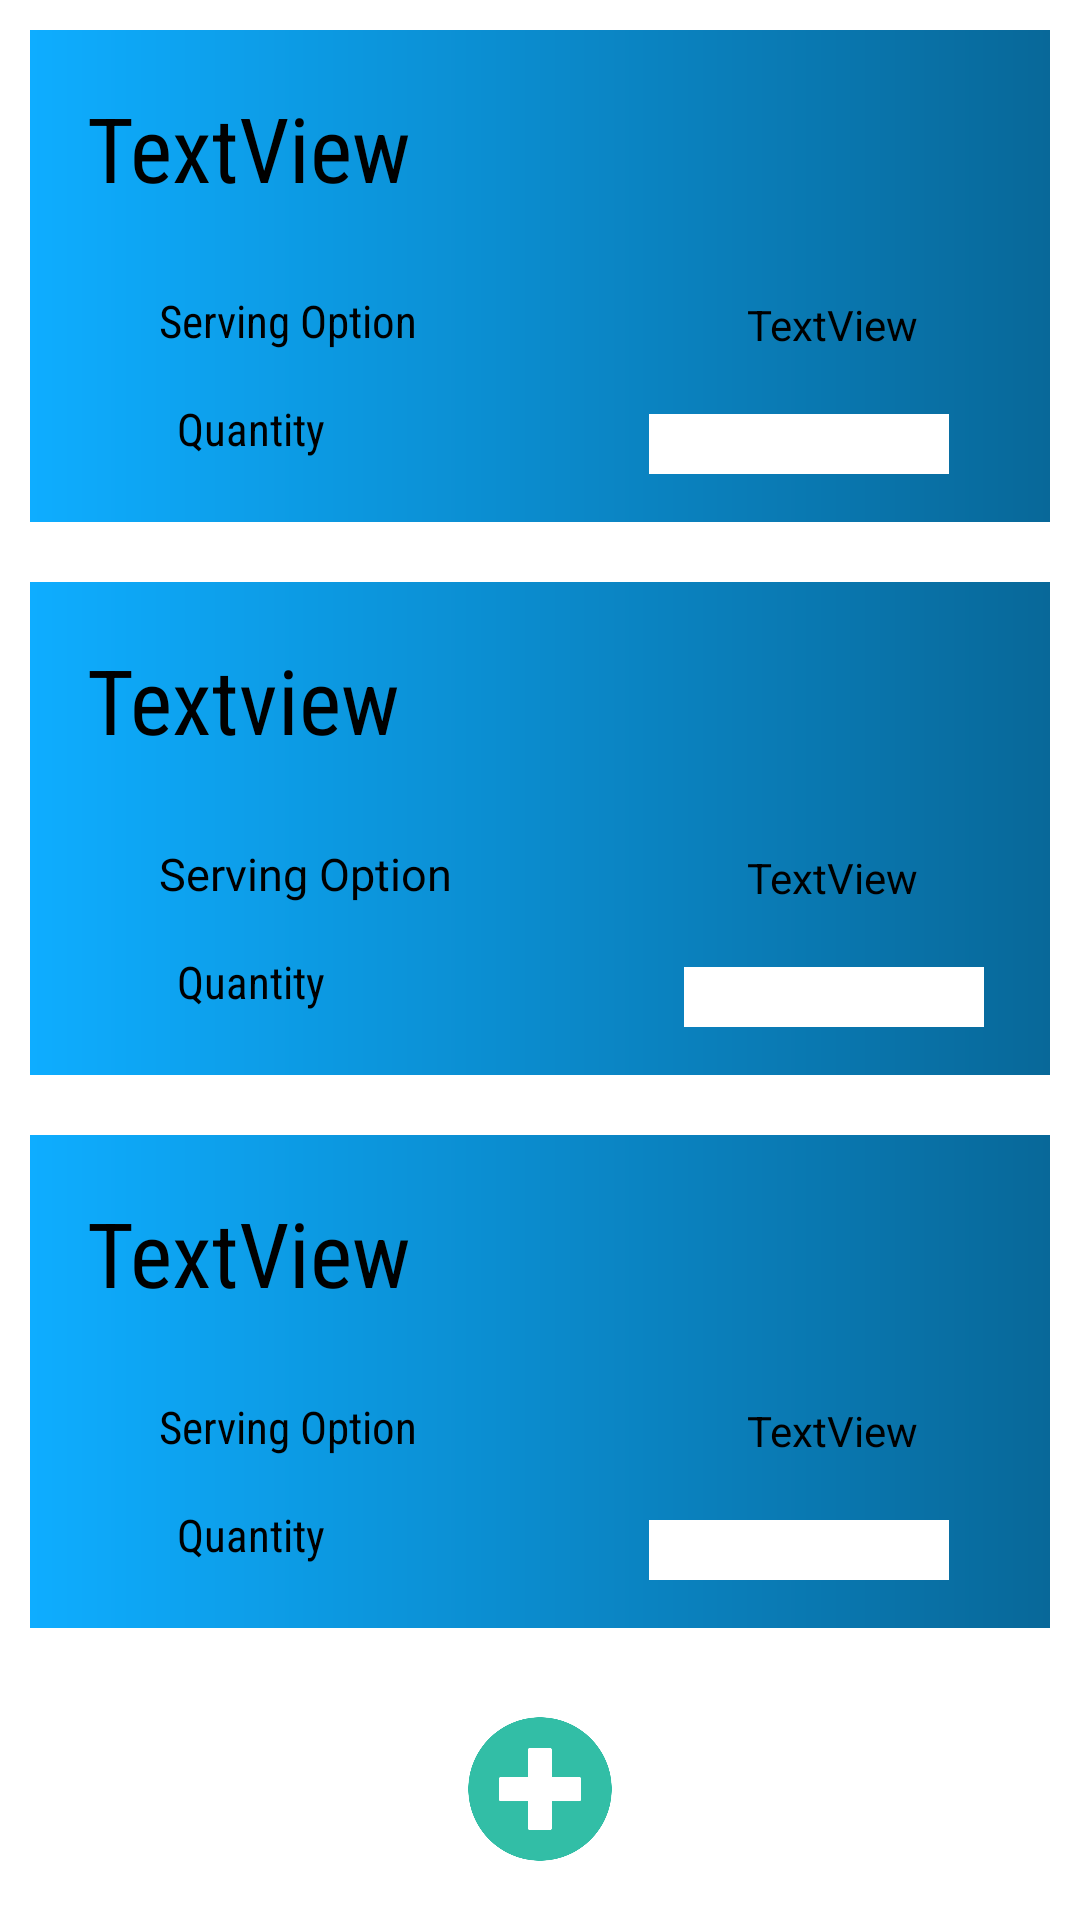

Icon click points for this 1080x1920 phone screenshot, format (x=x, y=y):
plus: (x=540, y=1789)
